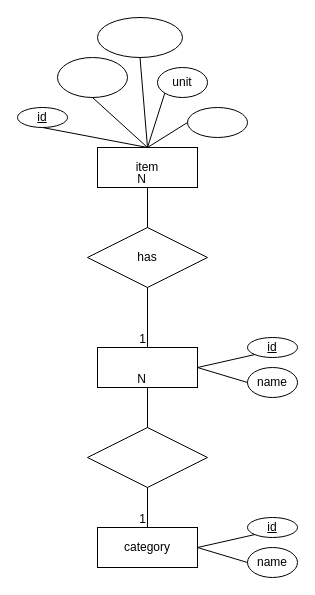
Some shapes in this 315 by 595 pixel diagram are drawn without their labels. Here are the shapes that lost their labels. From the top down, the box of each, then its label:
(96, 16, 182, 58): currentPrice
(56, 56, 128, 98): description
(186, 106, 248, 138): Quantity
(96, 346, 198, 388): sub category
(86, 426, 208, 488): Relationship
